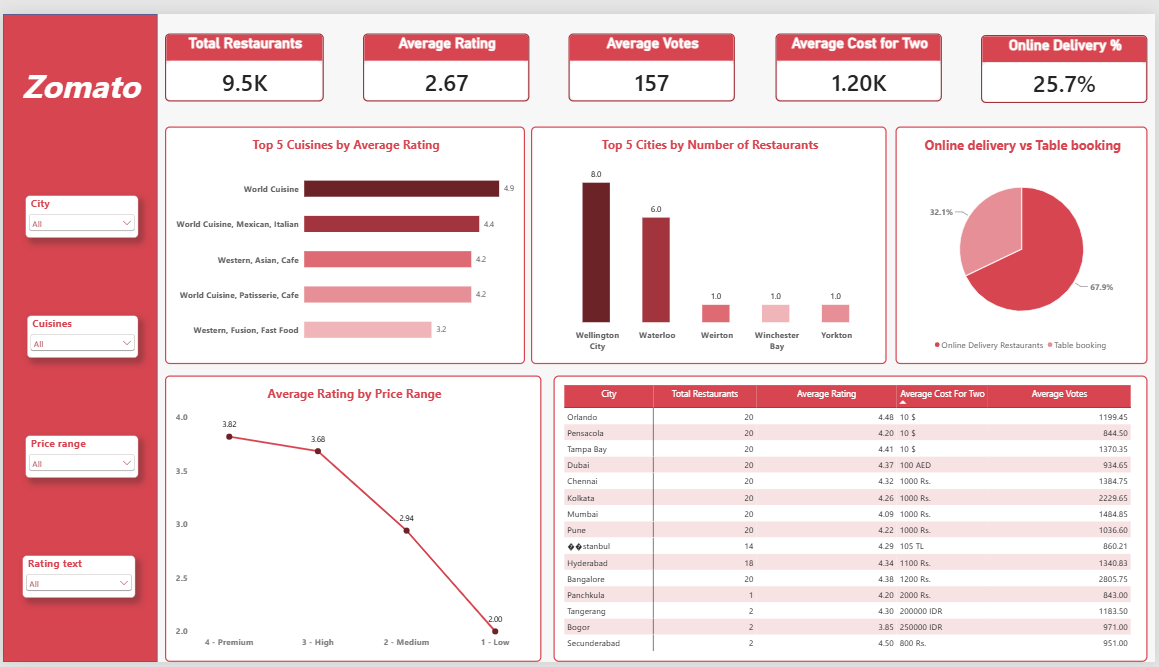

What the dashboard file says about the page in this screenshot:
{"tool":"powerbi","page":{"name":"Page 1","canvas":[1920,1080],"ordinal":0},"visuals":[{"type":"shape","box":[0,0,257.5,1080],"z":0},{"type":"textbox","box":[0,56.8,1267.4,70.4],"z":1000},{"type":"cardVisual","title":"Total Restaurants","fields":{"Data":["CountNonNull(Zomato Restaurant Dataset (2).Restaurant ID)"]},"box":[270,32.5,264.5,113.3],"z":2000},{"type":"cardVisual","title":"Average Rating","fields":{"Data":["Avg(Zomato Restaurant Dataset (2).Aggregate rating)"]},"box":[600.5,32.5,277.1,113.6],"z":3000},{"type":"cardVisual","title":"Average Votes","fields":{"Data":["Avg(Zomato Restaurant Dataset (2).Votes)"]},"box":[943.7,32.5,277.1,113.6],"z":4000},{"type":"cardVisual","title":"Average Cost for Two","fields":{"Data":["Avg(Zomato Restaurant Dataset (2).Average Cost for two (2))"]},"box":[1286.8,32.5,277.1,113.6],"z":5000},{"type":"cardVisual","title":"Online Delivery %","fields":{"Data":["Zomato Restaurant Dataset (2).Online Delivery %"]},"box":[1630,35,277.1,113.6],"z":6000},{"type":"barChart","title":"Top 5 Cuisines by Average Rating","fields":{"Category":["Zomato Restaurant Dataset (2).Cuisines"],"Y":["Avg(Zomato Restaurant Dataset (2).Aggregate rating)"]},"box":[269.1,187.1,599.9,396.2],"z":7000},{"type":"columnChart","title":"Top 5 Cities by Number of Restaurants","fields":{"Category":["Zomato Restaurant Dataset (2).City"],"Y":["Count(Zomato Restaurant Dataset (2).Aggregate rating)"]},"box":[879.1,187.1,592.5,396.2],"z":8000},{"type":"slicer","fields":{"Values":["Zomato Restaurant Dataset (2).Cuisines"]},"box":[40,503.3,185.2,71],"z":9000},{"type":"slicer","fields":{"Values":["Zomato Restaurant Dataset (2).Price range"]},"box":[37.5,702.9,188,71],"z":10000},{"type":"slicer","fields":{"Values":["Zomato Restaurant Dataset (2).Rating text"]},"box":[32.5,902.5,188,71],"z":11000},{"type":"slicer","fields":{"Values":["Zomato Restaurant Dataset (2).City"]},"box":[37.5,303.7,188,71],"z":12000},{"type":"textbox","box":[32.5,82.5,210,90],"z":13000},{"type":"pieChart","title":"Online delivery vs Table booking","fields":{"Y":["Zomato Restaurant Dataset (2).Online Delivery Restaurants","Zomato Restaurant Dataset (2).Table booking"]},"box":[1486.4,187.1,420.2,396.2],"z":14000},{"type":"lineChart","title":"Average Rating by Price Range","fields":{"Category":["Zomato Restaurant Dataset (2).Price Range Label"],"Y":["Avg(Zomato Restaurant Dataset (2).Aggregate rating)"]},"box":[270,602.5,627.5,477.5],"z":15000},{"type":"pivotTable","fields":{"Rows":["Zomato Restaurant Dataset (2).City"],"Values":["CountNonNull(Zomato Restaurant Dataset (2).Restaurant ID)","Avg(Zomato Restaurant Dataset (2).Aggregate rating)","Min(Zomato Restaurant Dataset (2).Cost with currency)","Avg(Zomato Restaurant Dataset (2).Votes)"]},"box":[917.5,602.5,990,477.5],"z":15001}]}

Visuals, with their boxes in screenshot pixels (x1, y1, x2, y2), scaled from the page's 1920x1080 canvas onto the 1159x667 screenshot:
shape: 0 0 155 666
textbox: 0 35 765 79
"Total Restaurants" cardVisual: 163 20 323 90
"Average Rating" cardVisual: 362 20 530 90
"Average Votes" cardVisual: 570 20 737 90
"Average Cost for Two" cardVisual: 777 20 944 90
"Online Delivery %" cardVisual: 984 22 1151 92
"Top 5 Cuisines by Average Rating" barChart: 162 116 525 360
"Top 5 Cities by Number of Restaurants" columnChart: 531 116 888 360
slicer - Zomato Restaurant Dataset (2).Cuisines: 24 311 136 355
slicer - Zomato Restaurant Dataset (2).Price range: 23 434 136 478
slicer - Zomato Restaurant Dataset (2).Rating text: 20 557 133 601
slicer - Zomato Restaurant Dataset (2).City: 23 188 136 231
textbox: 20 51 146 107
"Online delivery vs Table booking" pieChart: 897 116 1151 360
"Average Rating by Price Range" lineChart: 163 372 542 666
pivotTable - Zomato Restaurant Dataset (2).City x CountNonNull(Zomato Restaurant Dataset (2).Restaurant ID): 554 372 1151 666
